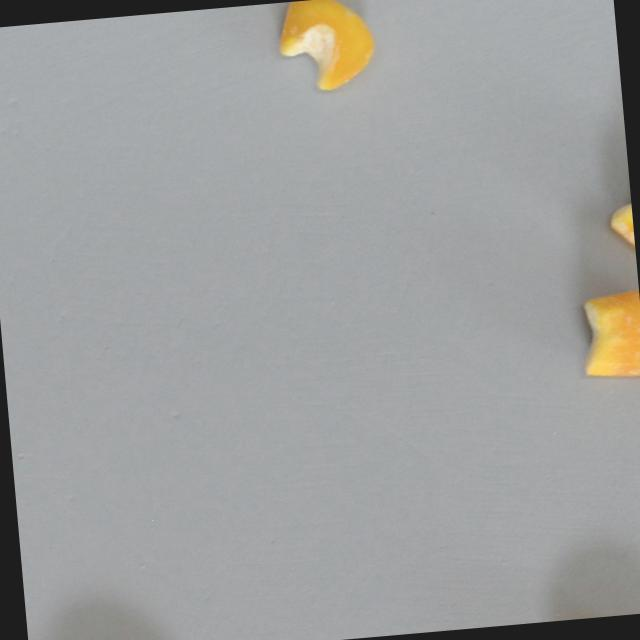no_canjicado: (273, 0, 379, 95)
pelicula: (575, 287, 640, 380), (602, 155, 636, 257)
